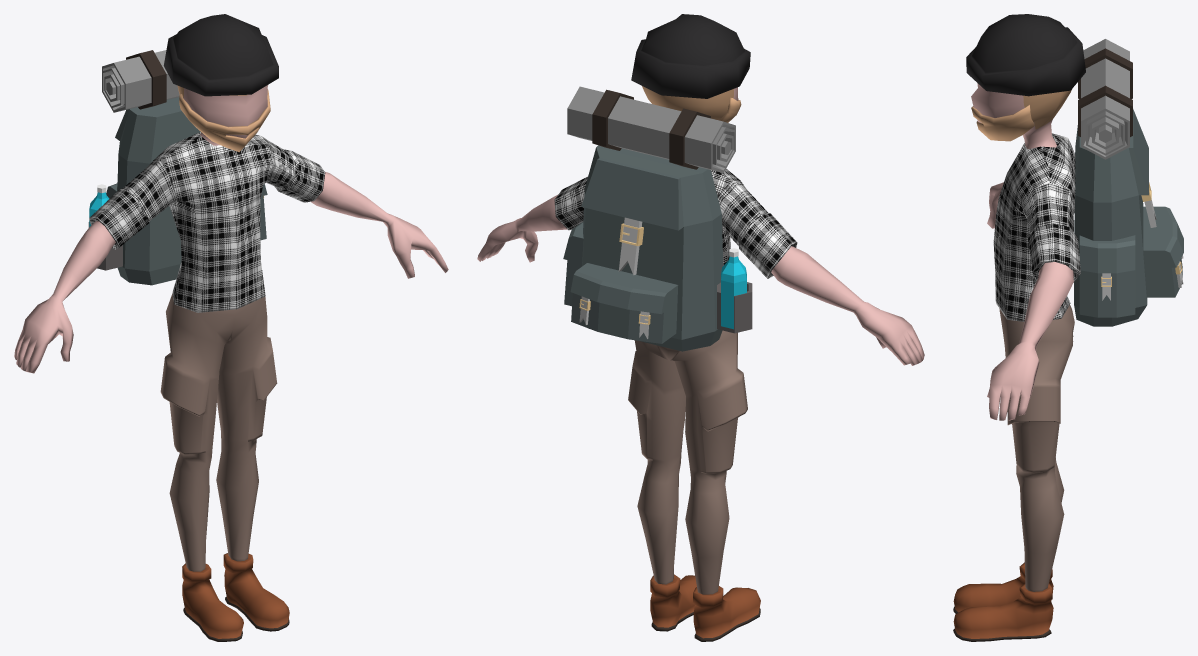
Rendered from hikercombined (1).fbx.
The picture shows the model from 3 angles, left to right: view 1: azimuth 30°, elevation 25°; view 2: azimuth 150°, elevation 25°; view 3: azimuth 270°, elevation 25°; orthographic projection. The views are drawn at different scales.
Visible parts, largest first — view 1: Hiker; view 2: Hiker; view 3: Hiker.
Part boxes in pixels (bbox=[...]): Hiker: bbox=[14, 14, 448, 641]; Hiker: bbox=[477, 14, 924, 641]; Hiker: bbox=[953, 14, 1183, 641].
Size of the model in its own units: 142 by 189 by 65.36.
